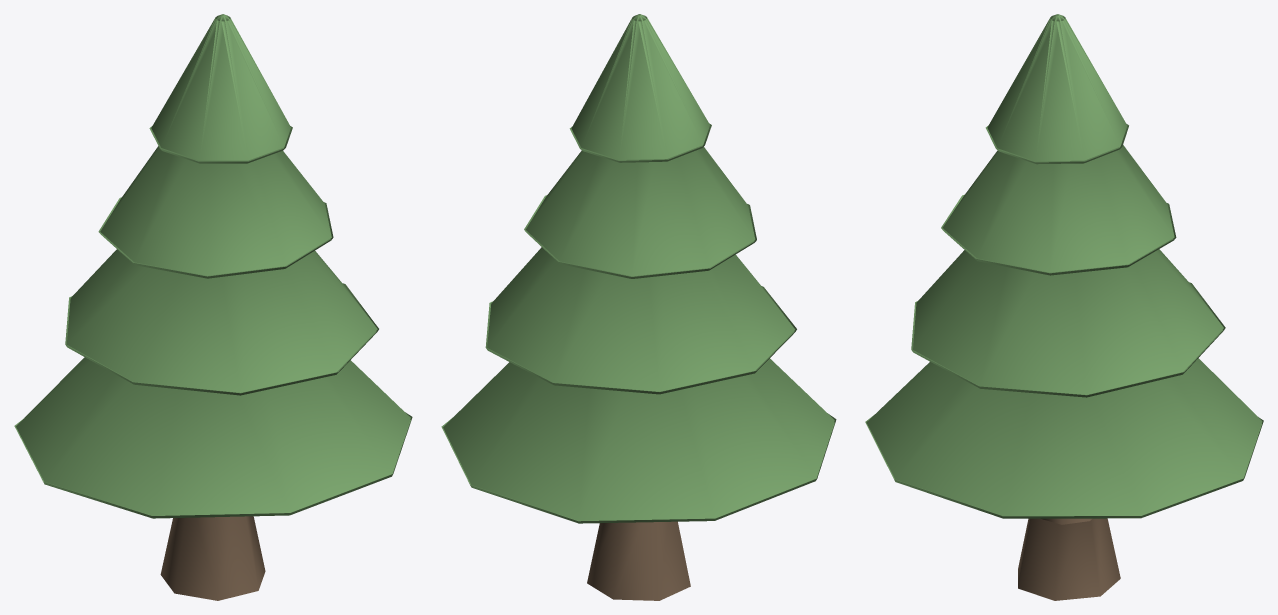
Rendered from pine_cluster_lod1.glb.
3 views of the same model, side by side, from view 1: azimuth 30°, elevation 25°; view 2: azimuth 150°, elevation 25°; view 3: azimuth 270°, elevation 25° (orthographic).
Parts seen in each view (by area): view 1: pine_cluster.001; view 2: pine_cluster.001; view 3: pine_cluster.001.
Part boxes in pixels (bbox=[...]): pine_cluster.001: bbox=[14, 14, 412, 600]; pine_cluster.001: bbox=[441, 14, 836, 600]; pine_cluster.001: bbox=[865, 14, 1263, 600].
Size of the model in its own units: 2.65 by 4.19 by 2.68.
